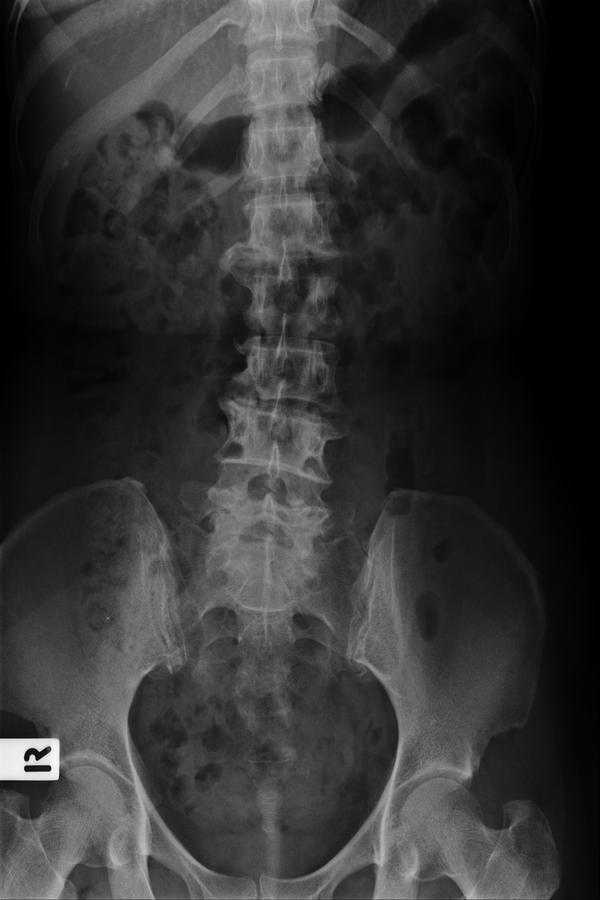lumbar scoliosis: (204, 121, 340, 623)
